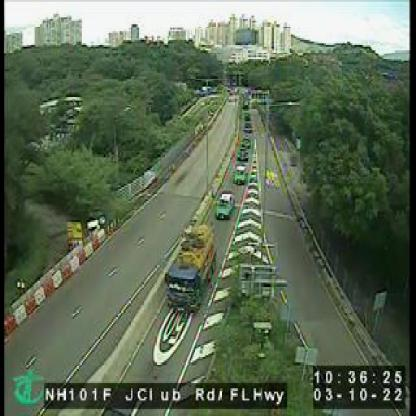Car: (214, 194, 233, 220), (231, 165, 247, 182), (235, 146, 244, 160), (242, 137, 251, 149)
Truck: (165, 224, 213, 303)
